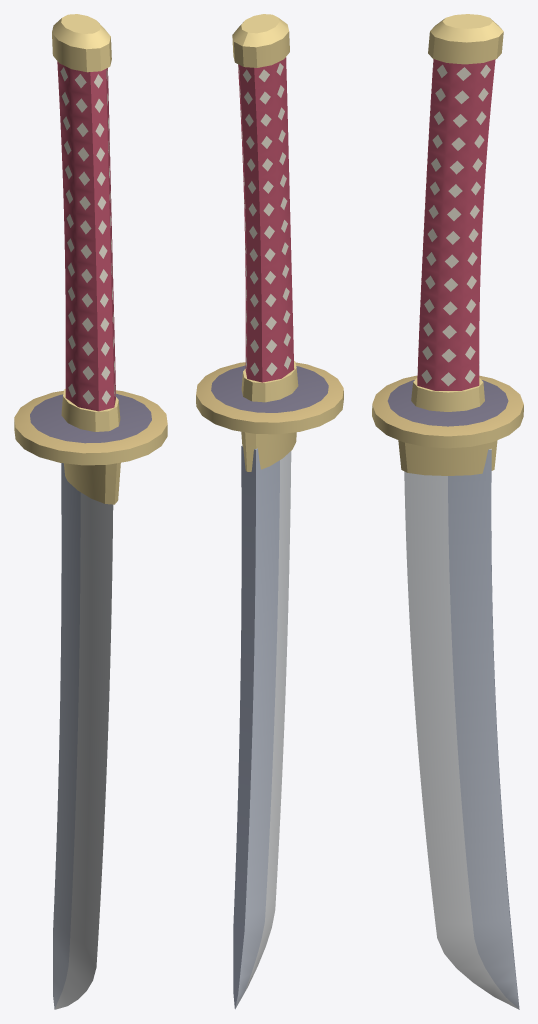
The model's file is Melee_Katana.glb.
The picture shows the model from 3 angles, left to right: view 1: azimuth 30°, elevation 25°; view 2: azimuth 150°, elevation 25°; view 3: azimuth 270°, elevation 25°; orthographic projection. The views are drawn at different scales.
Visible parts, largest first — view 1: Blade, Handle, Guard; view 2: Blade, Handle, Guard; view 3: Blade, Handle, Guard.
Part boxes in pixels (<box>): Blade: <box>53,463,113,1009</box>; Handle: <box>57,61,115,411</box>; Guard: <box>14,14,167,504</box>; Blade: <box>233,445,291,1009</box>; Handle: <box>238,57,294,382</box>; Guard: <box>196,14,343,471</box>; Blade: <box>404,449,519,1009</box>; Handle: <box>417,59,495,390</box>; Guard: <box>372,14,523,475</box>.
Bounding box in the file's own units: 0.69 × 4.96 × 0.6904.
